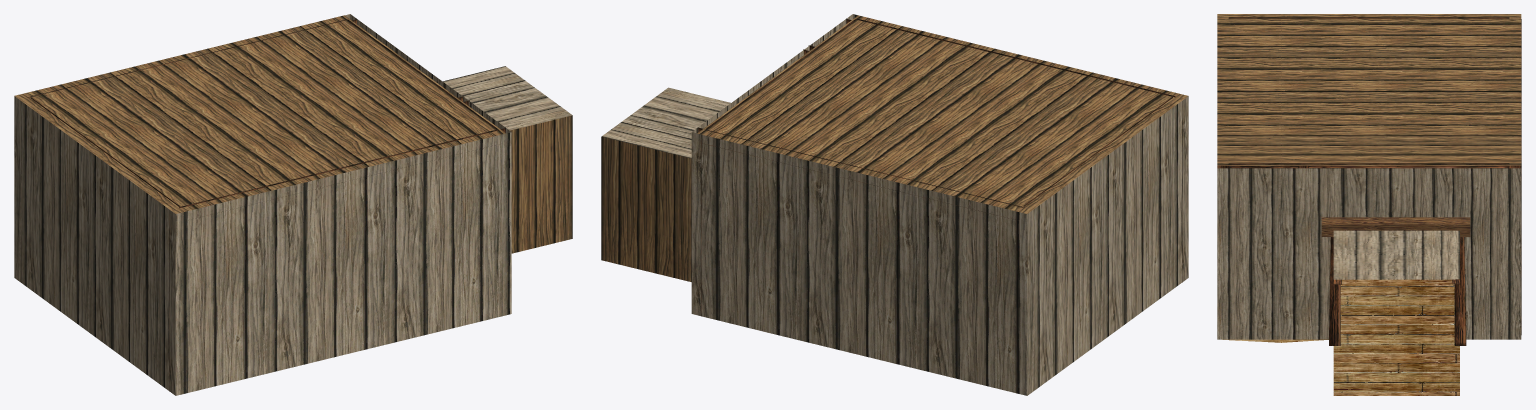
Rendered from LAKETOWN_WAREHOUSE2_PS_WH2_SIDEROOM77__GX.fbx.
3 views of the same model, side by side, from view 1: azimuth 30°, elevation 25°; view 2: azimuth 150°, elevation 25°; view 3: azimuth 270°, elevation 25° (orthographic). The views are drawn at different scales.
Visible parts, largest first — view 1: LAKETOWN_WAREHOUSE2_PS_WH2_SIDEROOM77__GX; view 2: LAKETOWN_WAREHOUSE2_PS_WH2_SIDEROOM77__GX; view 3: LAKETOWN_WAREHOUSE2_PS_WH2_SIDEROOM77__GX.
Part boxes in pixels (x1,y1,x2,y2): LAKETOWN_WAREHOUSE2_PS_WH2_SIDEROOM77__GX: (14,14,572,395); LAKETOWN_WAREHOUSE2_PS_WH2_SIDEROOM77__GX: (601,14,1188,395); LAKETOWN_WAREHOUSE2_PS_WH2_SIDEROOM77__GX: (1217,14,1521,395).
Size of the model in its own units: 109936 by 41955 by 67110.
Materials: 9 (9 with a texture image).
